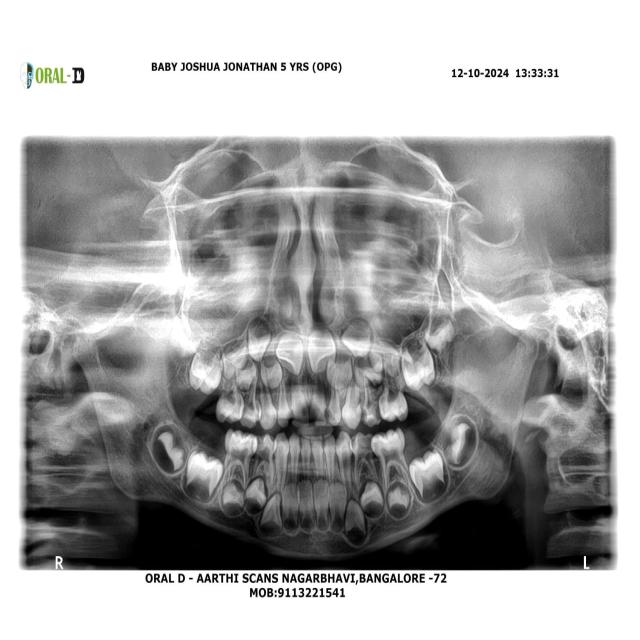Premolars: (351, 430, 382, 494)
